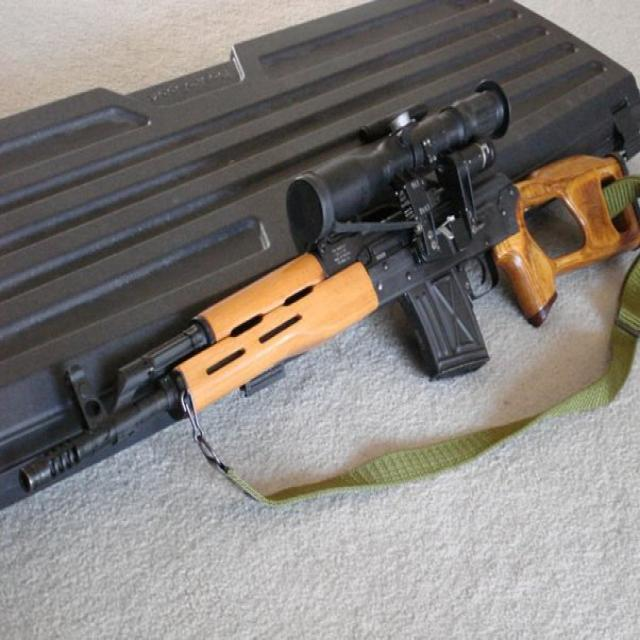Rifle: (18, 84, 639, 496)
